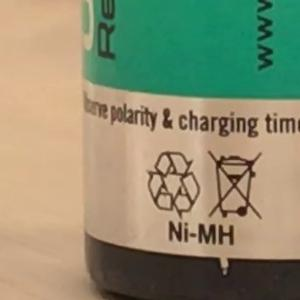keyword: (159, 214, 244, 252)
